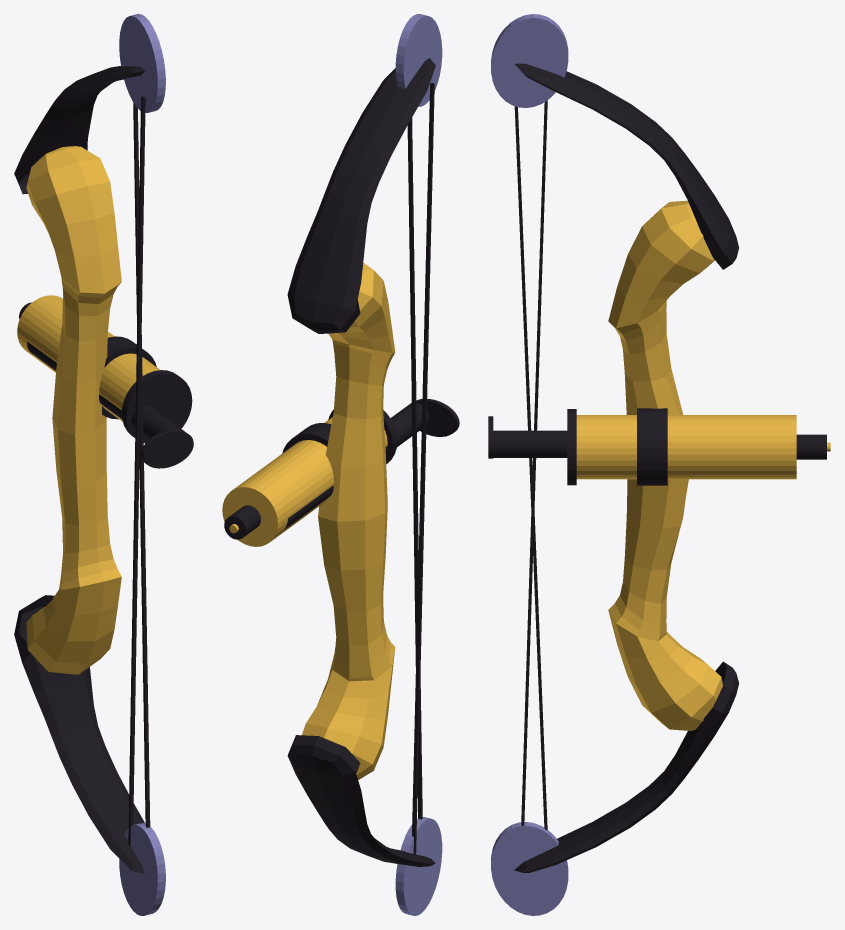
The model's file is bow.fbx.
3 views of the same model, side by side, from view 1: azimuth 30°, elevation 25°; view 2: azimuth 150°, elevation 25°; view 3: azimuth 270°, elevation 25° (orthographic).
Parts seen in each view (by area): view 1: Cube, Cube.001, Cylinder.008, Cylinder, Cube.004, Cube.002, Cylinder.001, Cylinder.006, Cylinder.005, Cylinder.003; view 2: Cube, Cube.001, Cylinder, Cylinder.008, Cube.004, Cube.002, Cylinder.005, Cylinder.006, Cylinder.002, Cylinder.003; view 3: Cube, Cube.001, Cylinder, Cylinder.008, Cube.002, Cube.004, Cylinder.003, Cylinder.005, Cylinder.002, Cylinder.001.
Part boxes in pixels (bbox=[...]): Cube: bbox=[26, 146, 121, 674]; Cube.001: bbox=[14, 66, 144, 873]; Cylinder.008: bbox=[119, 14, 165, 915]; Cylinder: bbox=[17, 295, 159, 421]; Cube.004: bbox=[128, 96, 145, 845]; Cube.002: bbox=[133, 103, 150, 827]; Cylinder.001: bbox=[121, 370, 192, 443]; Cylinder.006: bbox=[140, 430, 193, 468]; Cylinder.005: bbox=[27, 342, 192, 439]; Cylinder.003: bbox=[102, 336, 156, 419]; Cube: bbox=[302, 263, 395, 779]; Cube.001: bbox=[287, 58, 435, 866]; Cylinder: bbox=[222, 417, 387, 546]; Cylinder.008: bbox=[395, 14, 442, 915]; Cube.004: bbox=[412, 82, 434, 854]; Cube.002: bbox=[407, 117, 422, 819]; Cylinder.005: bbox=[285, 402, 429, 528]; Cylinder.006: bbox=[416, 398, 459, 436]; Cylinder.002: bbox=[224, 505, 260, 539]; Cylinder.003: bbox=[282, 423, 331, 453]; Cube: bbox=[608, 200, 722, 730]; Cube.001: bbox=[514, 63, 738, 872]; Cylinder: bbox=[576, 415, 796, 479]; Cylinder.008: bbox=[491, 14, 568, 915]; Cube.002: bbox=[521, 100, 547, 825]; Cube.004: bbox=[514, 106, 547, 830]; Cylinder.003: bbox=[637, 408, 667, 485]; Cylinder.005: bbox=[490, 430, 567, 457]; Cylinder.002: bbox=[796, 434, 826, 459]; Cylinder.001: bbox=[567, 409, 576, 485].
Size of the model in its own units: 57.4 by 471 by 163.
